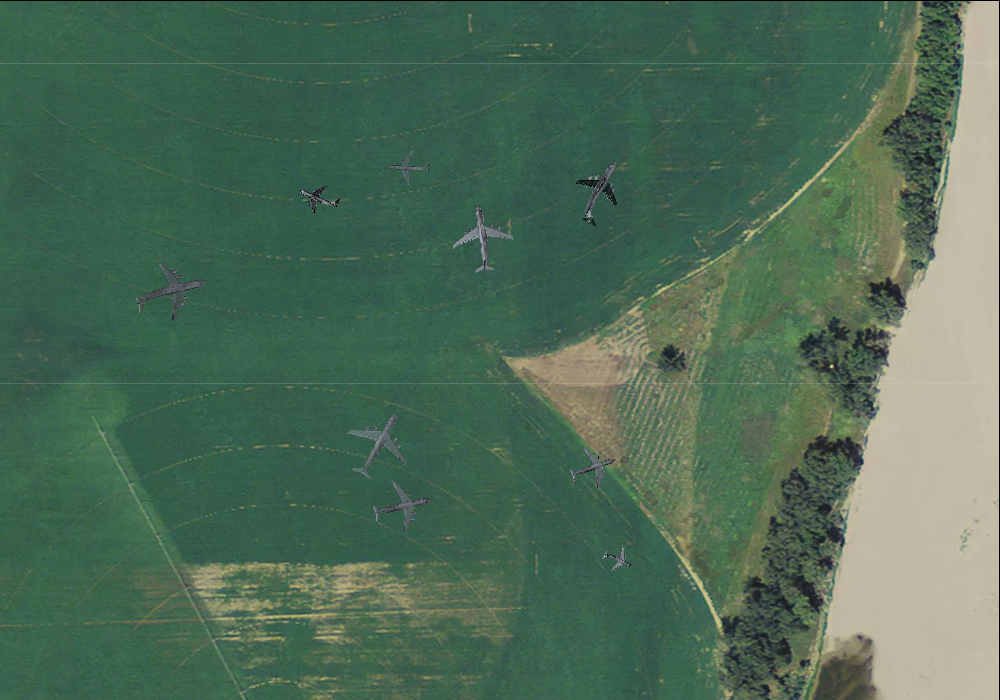plane: (331, 396, 425, 492), (558, 148, 643, 236), (126, 250, 214, 335), (445, 200, 518, 277), (366, 473, 437, 541), (563, 438, 623, 497), (292, 171, 345, 223), (387, 145, 431, 188), (597, 540, 638, 581)
